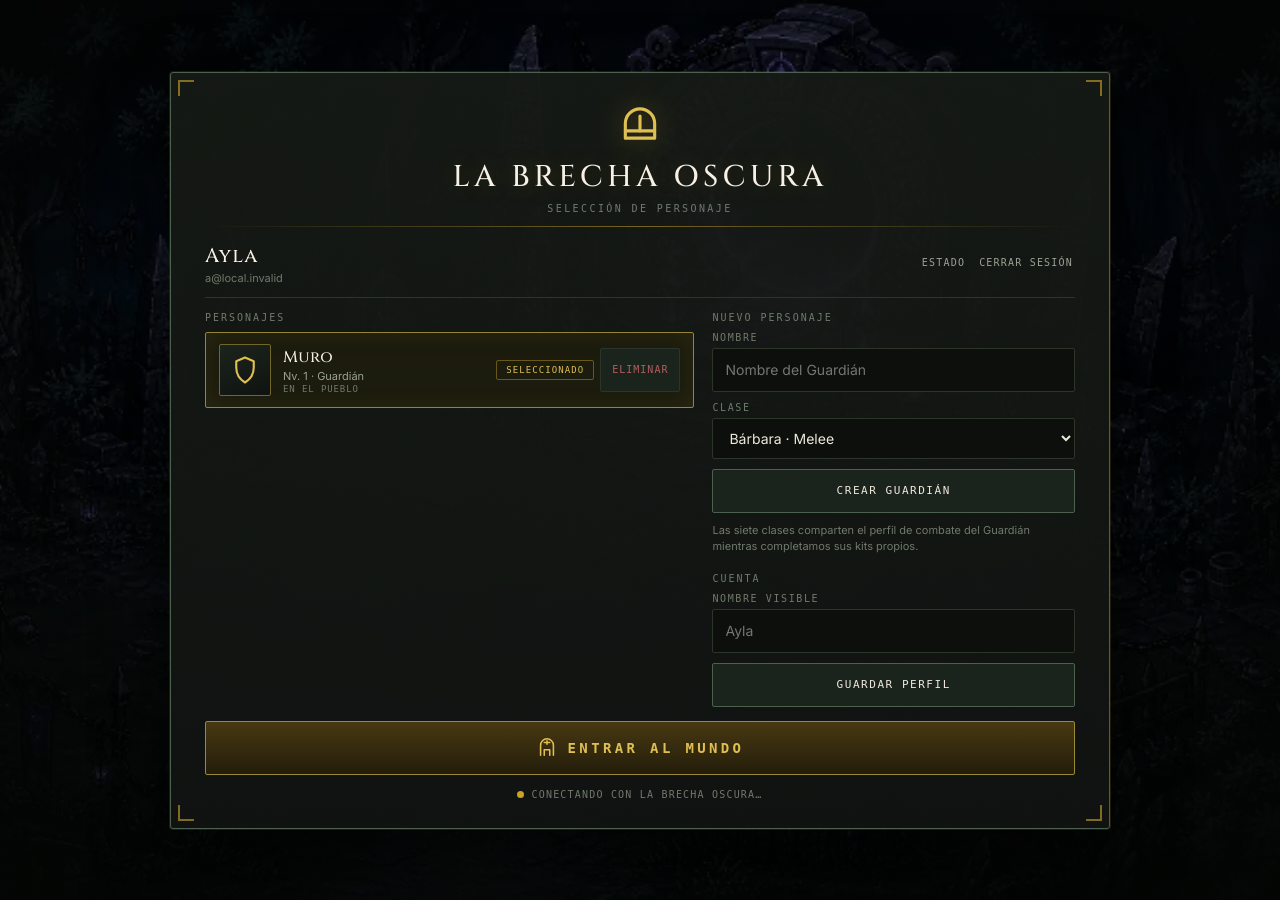
Test: Paso 5 session lifecycle › updates the profile and reflects offline then recovered connection state
The width and height of the screenshot is (1280, 900).
Expected: the heading "Ayla" is shown, [205,242,258,268]
Type "Nova" into the field labelled "Nombre visible". click: (894, 630)
box: [712,608,1075,652]
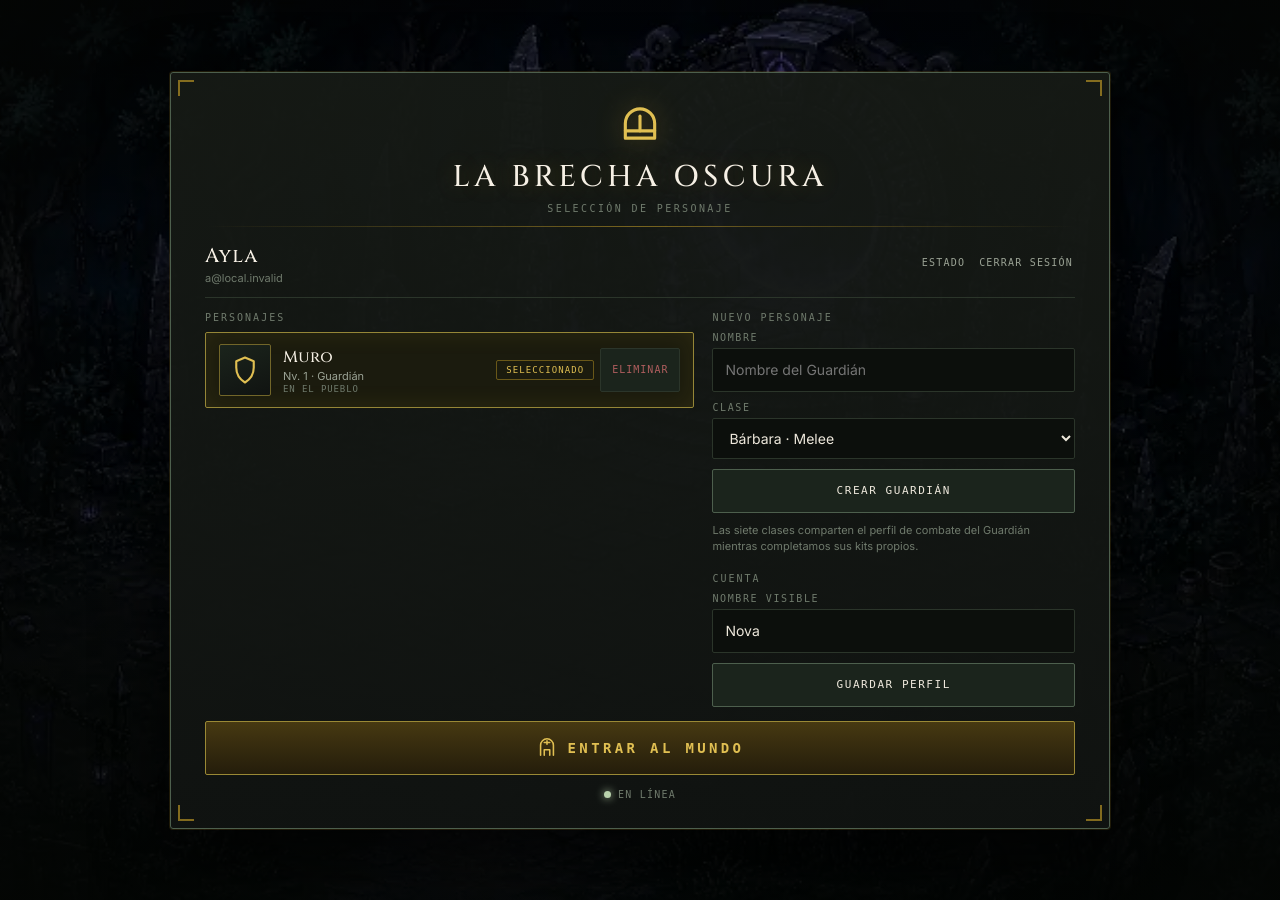
Click the button "Guardar perfil". click: (894, 684)
box: [712,662,1075,706]
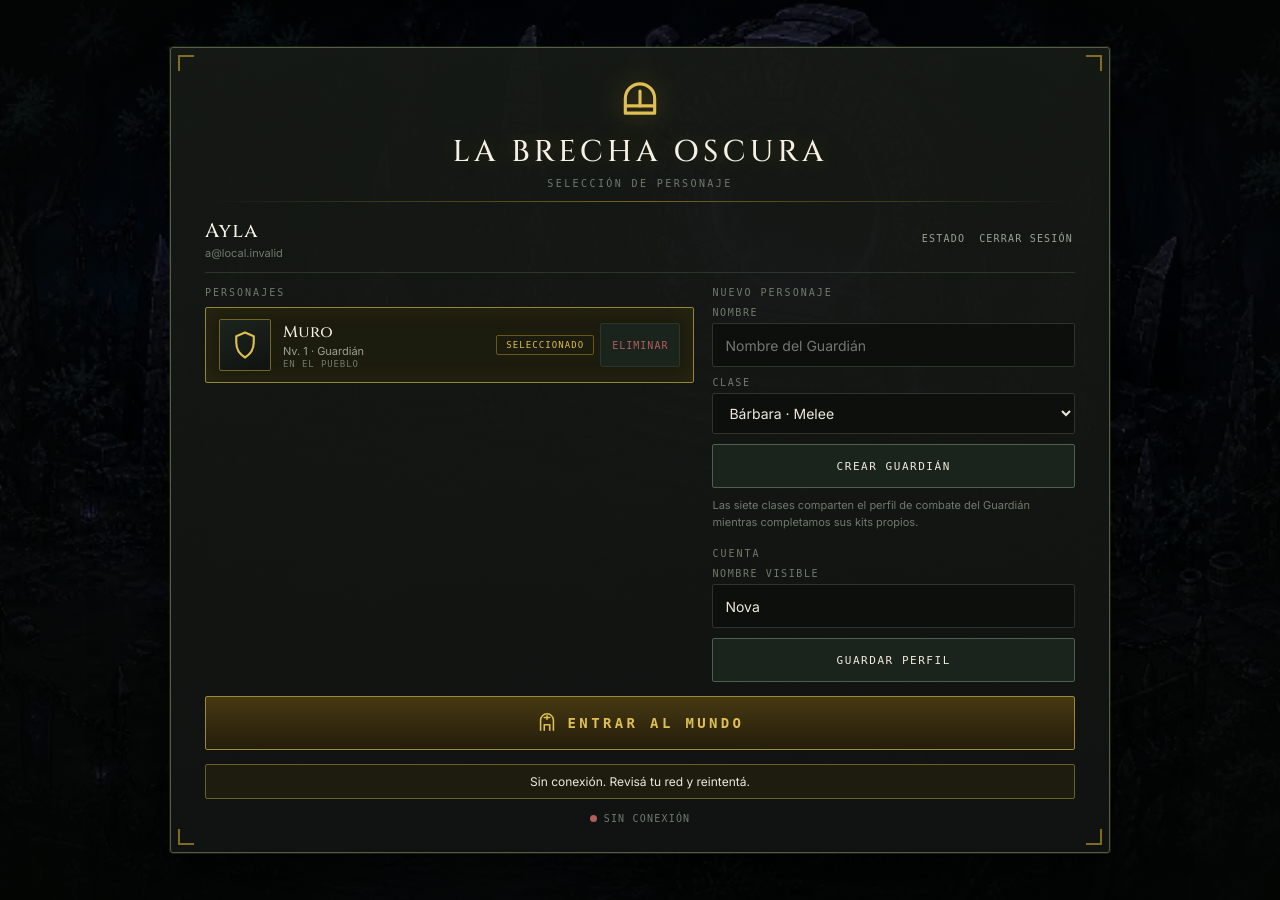
Now the text "Sin conexión" has attribute data-connection-state="offline", box [590,813,690,824]
Click the button "Guardar perfil". click: (894, 660)
box: [712,638,1075,682]
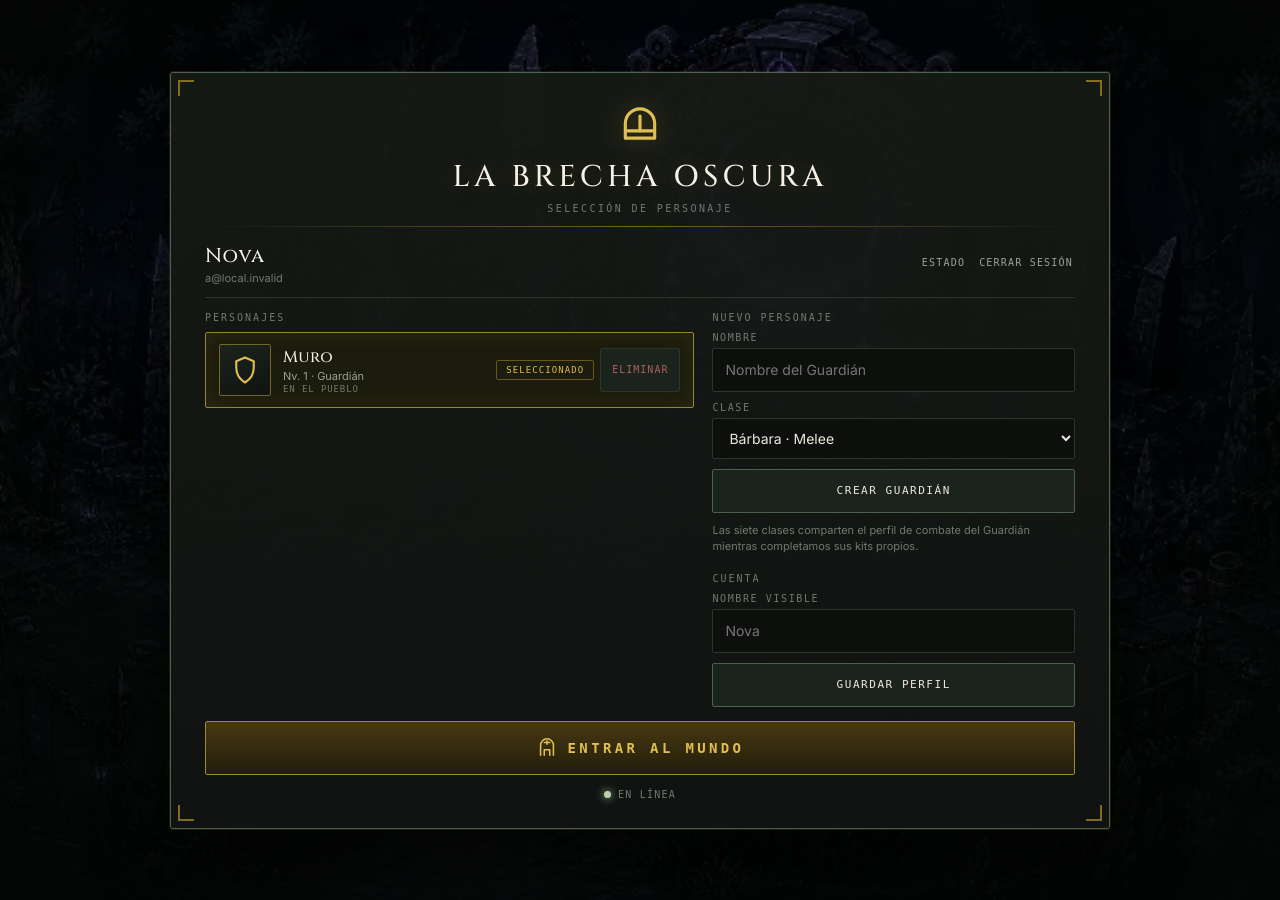
Now the heading "Nova" is shown, box [205,242,265,268]
